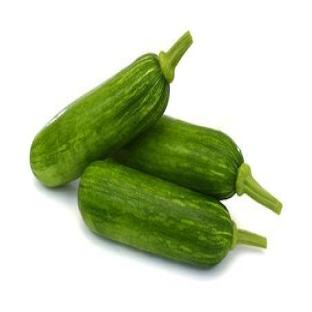Zucchini: (30, 33, 191, 187), (78, 161, 266, 267), (114, 117, 281, 213)
